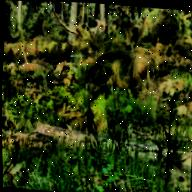boar: (78, 43, 165, 108)
